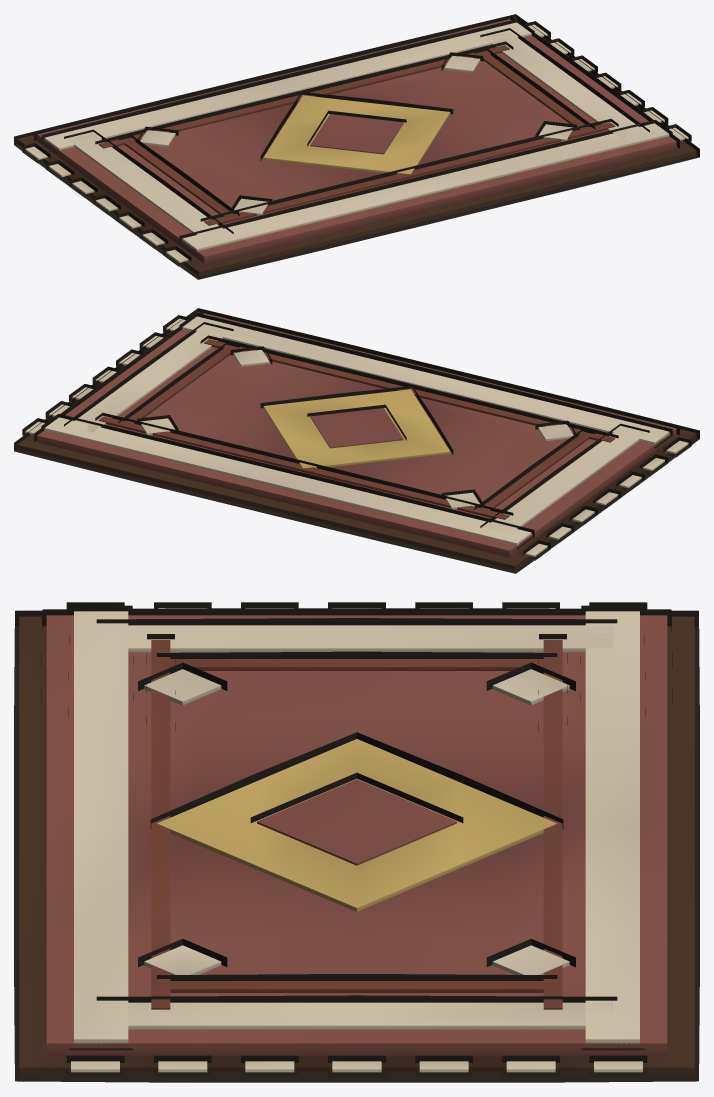
File: tapis.glb
The picture shows the model from 3 angles, top to bottom: view 1: azimuth 30°, elevation 25°; view 2: azimuth 150°, elevation 25°; view 3: azimuth 270°, elevation 25°; orthographic projection. The views are drawn at different scales.
Parts seen in each view (by area): view 1: tapis, tapis_outline; view 2: tapis, tapis_outline; view 3: tapis, tapis_outline.
Boxes of the visible parts, x1,y1,x2,y2 form: tapis: (17,17,696,276); tapis_outline: (14,14,699,279); tapis: (17,311,696,570); tapis_outline: (14,308,699,573); tapis: (19,608,694,1075); tapis_outline: (14,602,699,1082).
Bounding box in the file's own units: 2.02 × 0.082 × 1.26.
